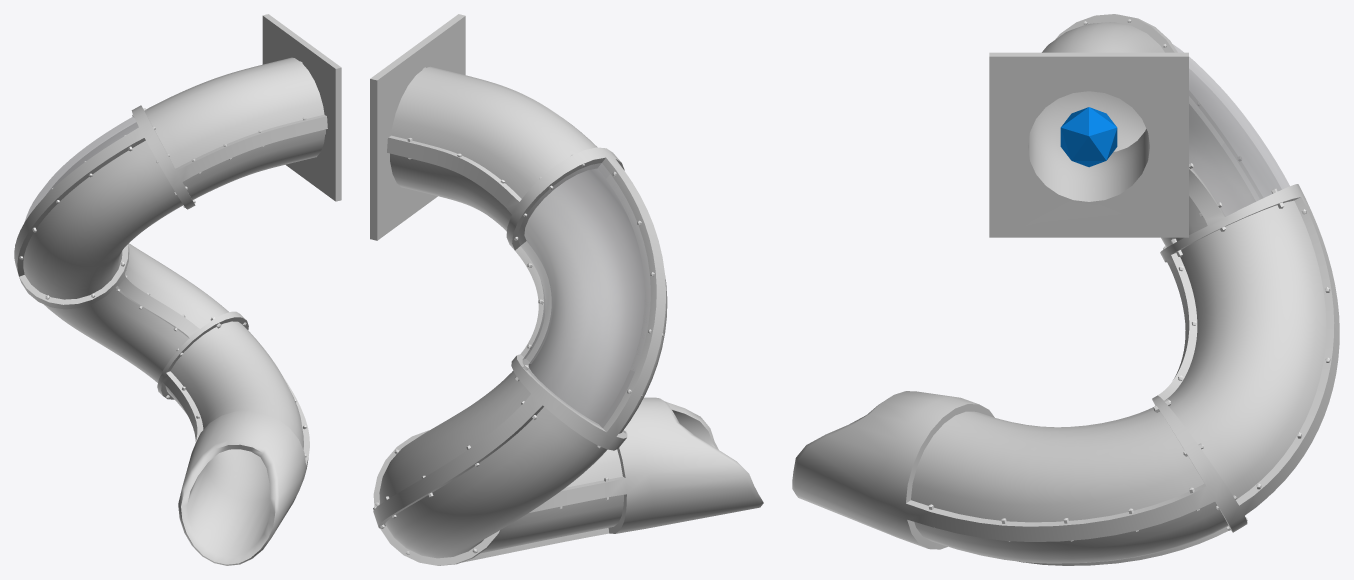
The model's file is Turbo twister slider 7' clear.glb.
3 views of the same model, side by side, from view 1: azimuth 30°, elevation 25°; view 2: azimuth 150°, elevation 25°; view 3: azimuth 270°, elevation 25° (orthographic). The views are drawn at different scales.
Parts seen in each view (by area): view 1: NurbsPath.002, NurbsPath.003, Side winder slide.011; view 2: NurbsPath.002, NurbsPath.003, Side winder slide.011; view 3: NurbsPath.002, NurbsPath.003, Joint.055, Side winder slide.011.
Part boxes in pixels (left/top/right/bottom): NurbsPath.002: left=14, top=14, right=341, bottom=565; NurbsPath.003: left=25, top=117, right=138, bottom=220; Side winder slide.011: left=15, top=108, right=306, bottom=457; NurbsPath.002: left=370, top=14, right=763, bottom=565; NurbsPath.003: left=518, top=163, right=650, bottom=427; Side winder slide.011: left=373, top=138, right=665, bottom=554; NurbsPath.002: left=792, top=14, right=1339, bottom=565; NurbsPath.003: left=1173, top=44, right=1289, bottom=216; Joint.055: left=1060, top=107, right=1117, bottom=167; Side winder slide.011: left=928, top=19, right=1330, bottom=541.
Size of the model in its own units: 1.87 by 2.82 by 2.51.
4 materials, 1 textured.
